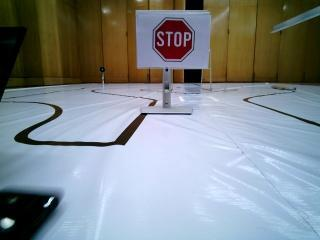stop: (142, 13, 209, 65)
